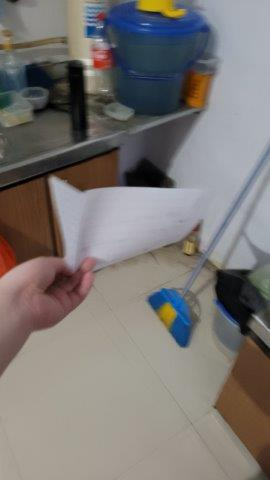kertas: (44, 175, 215, 271)
